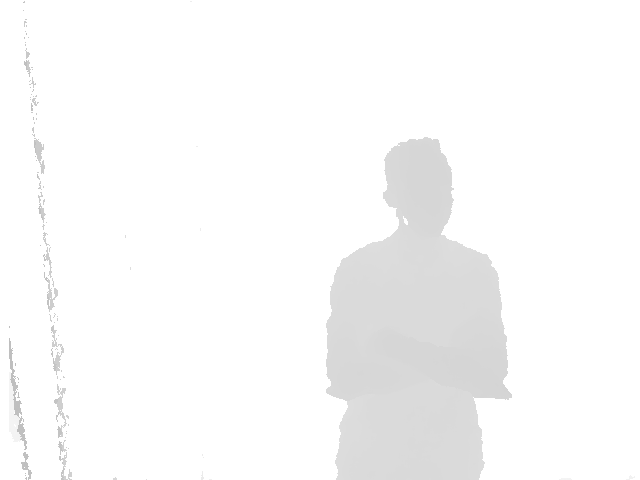head: (381, 138, 454, 232)
person: (324, 137, 513, 480)
